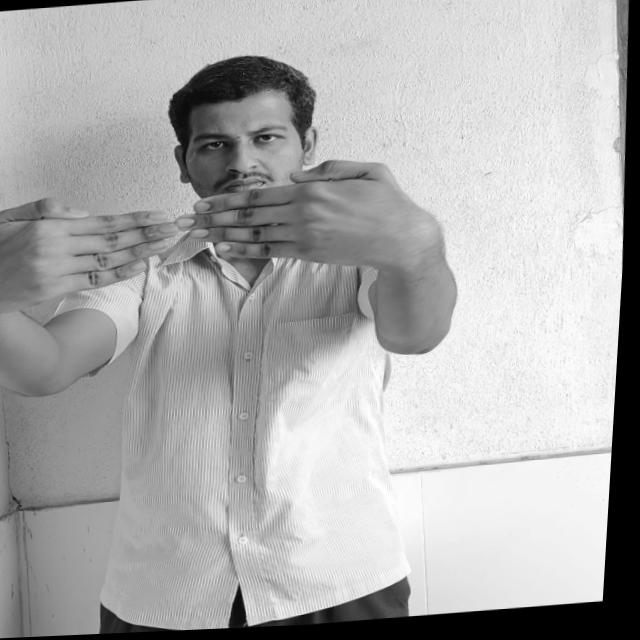Night: (0, 156, 413, 306)
